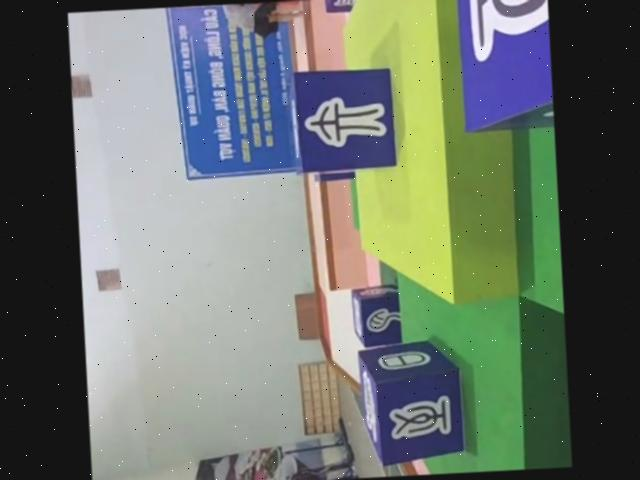R2 Fake Blue: (358, 339, 466, 467), (454, 0, 554, 129), (291, 65, 402, 176), (352, 282, 404, 347)
